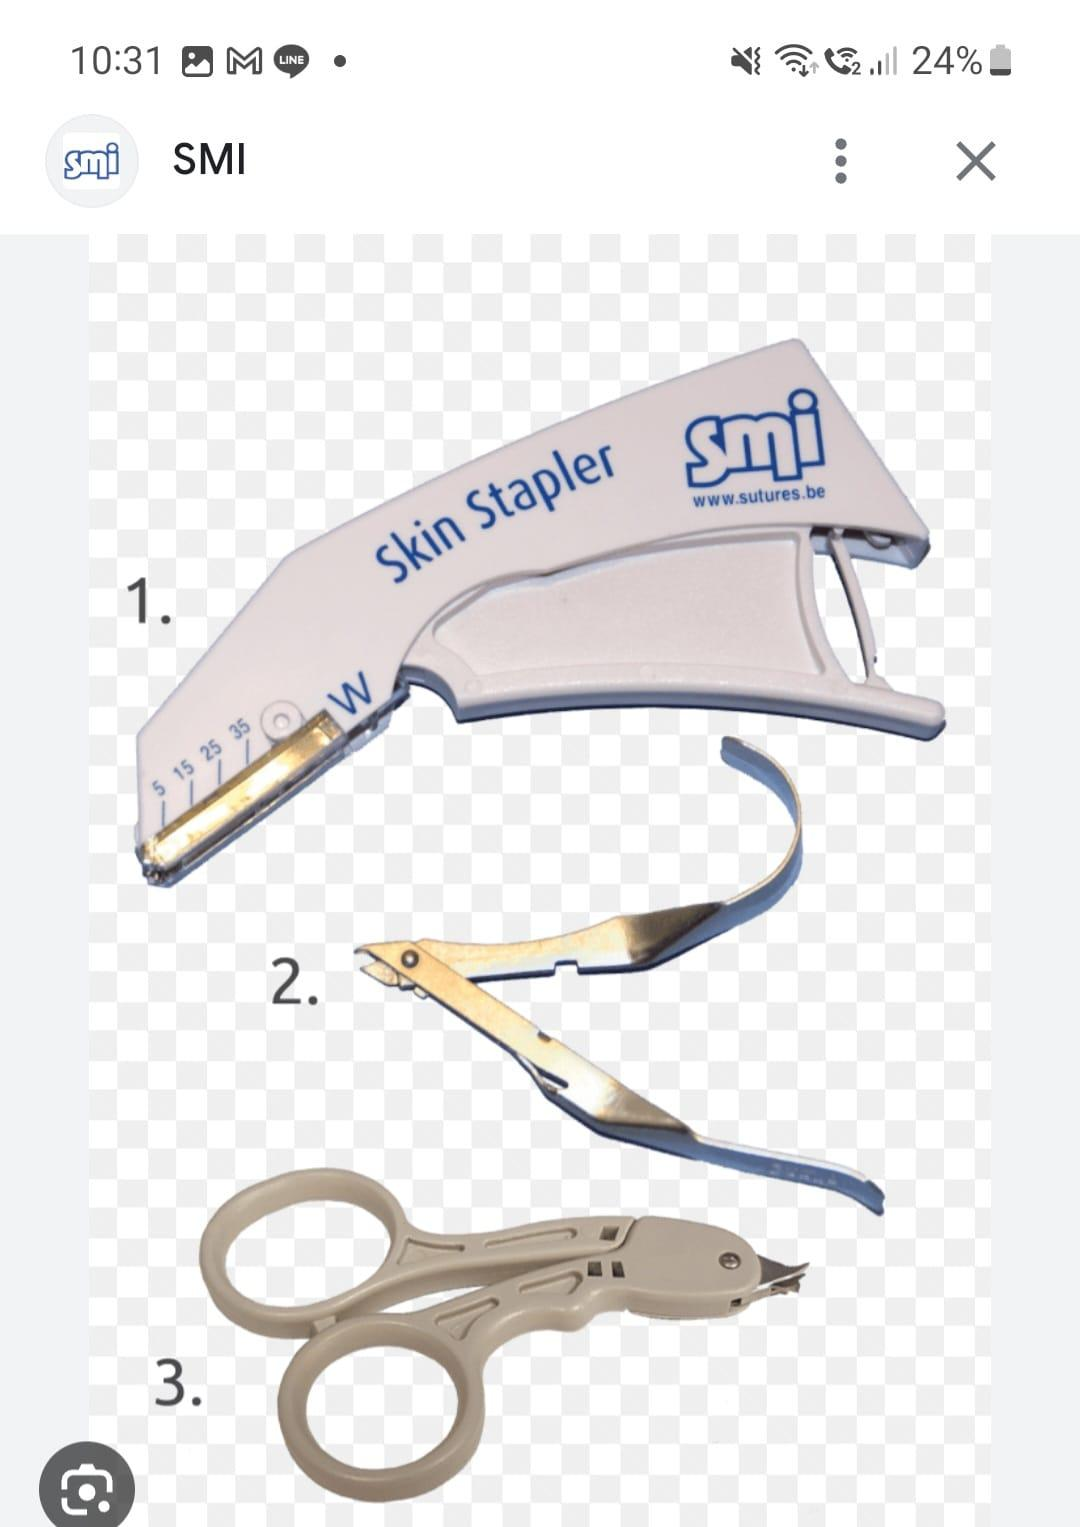Skin Stapler: (127, 310, 962, 893)
Stapler Remover: (187, 1140, 815, 1513)
